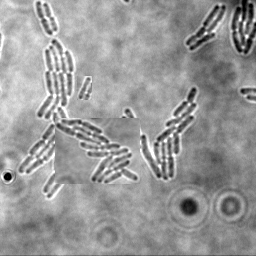Dividing: (34, 1, 52, 37), (41, 3, 57, 33)
Microcolony: (18, 40, 89, 199), (120, 87, 197, 181), (55, 118, 140, 184), (184, 5, 226, 52), (230, 1, 255, 56)
Rod: (77, 76, 92, 100)
